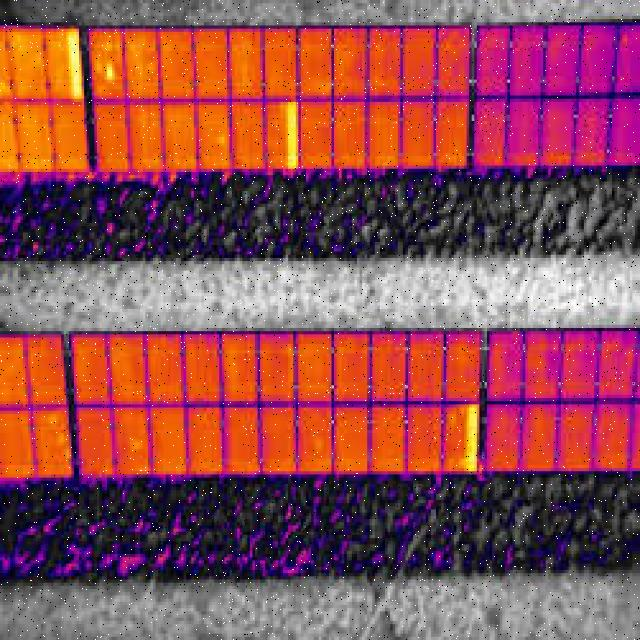Hotspot: (66, 29, 84, 105), (467, 404, 479, 474), (288, 102, 298, 175), (102, 57, 114, 83)
